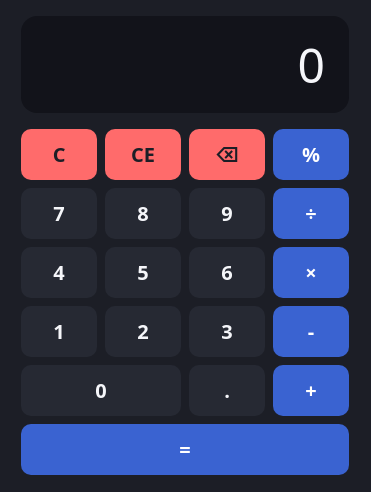
Test: App — percentages (User Story 3) › converts a standalone entry to a percentage
Click the button "5": (143, 272) 105,247 -> 181,298
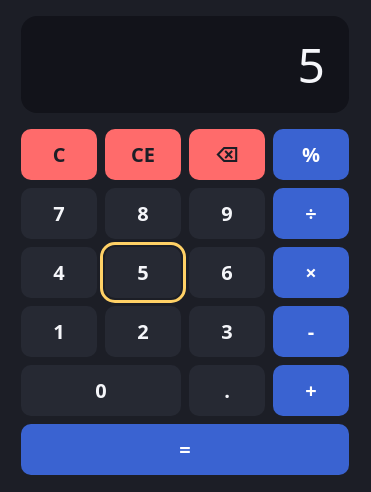
Click the button "0": (101, 390) 21,365 -> 181,416
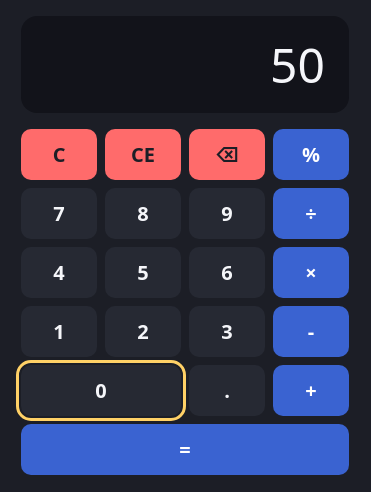
Click the button named "Percent": (311, 154) 273,129 -> 349,180
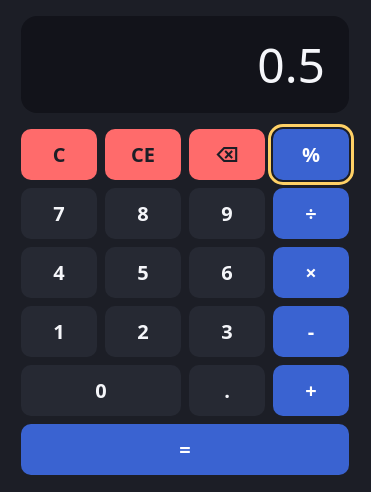
Expected: the message named "Calculator display" reads "0.5", 257,32 -> 325,97
